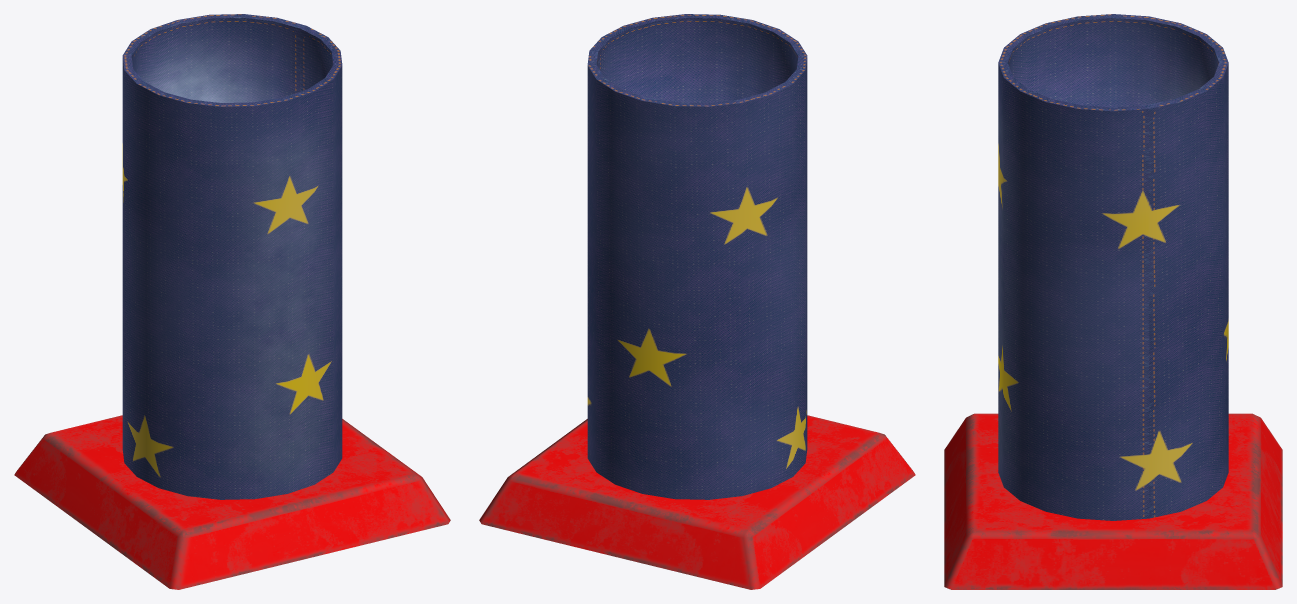
The model's file is SM_Hanabi_01.fbx.
3 renders of one model, left to right at view 1: azimuth 30°, elevation 25°; view 2: azimuth 150°, elevation 25°; view 3: azimuth 270°, elevation 25°, orthographic. The views are drawn at different scales.
Parts seen in each view (by area): view 1: SM_Hanabi_01; view 2: SM_Hanabi_01; view 3: SM_Hanabi_01.
Boxes of the visible parts, left/top/right/bottom form: SM_Hanabi_01: left=14, top=14, right=450, bottom=589; SM_Hanabi_01: left=479, top=14, right=915, bottom=589; SM_Hanabi_01: left=944, top=14, right=1282, bottom=589.
Bounding box in the file's own units: 33.73 × 50.12 × 33.73.
